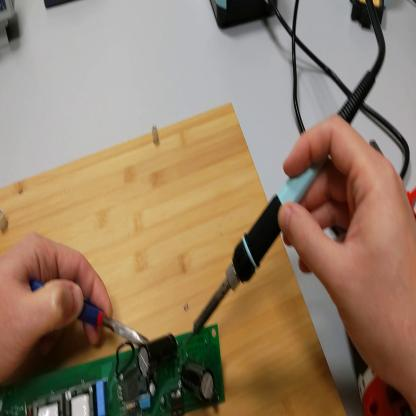electric screwdriver: (327, 179, 416, 416)
hand: (275, 114, 416, 391), (3, 233, 112, 380)
high voltage board: (1, 320, 226, 416)
oscilloscope: (2, 2, 20, 50)
pliers: (27, 273, 150, 353)
welder base: (351, 3, 386, 34)
welder probe tip: (181, 66, 376, 347)
welder station: (211, 2, 281, 38)
working area: (2, 102, 347, 416)
